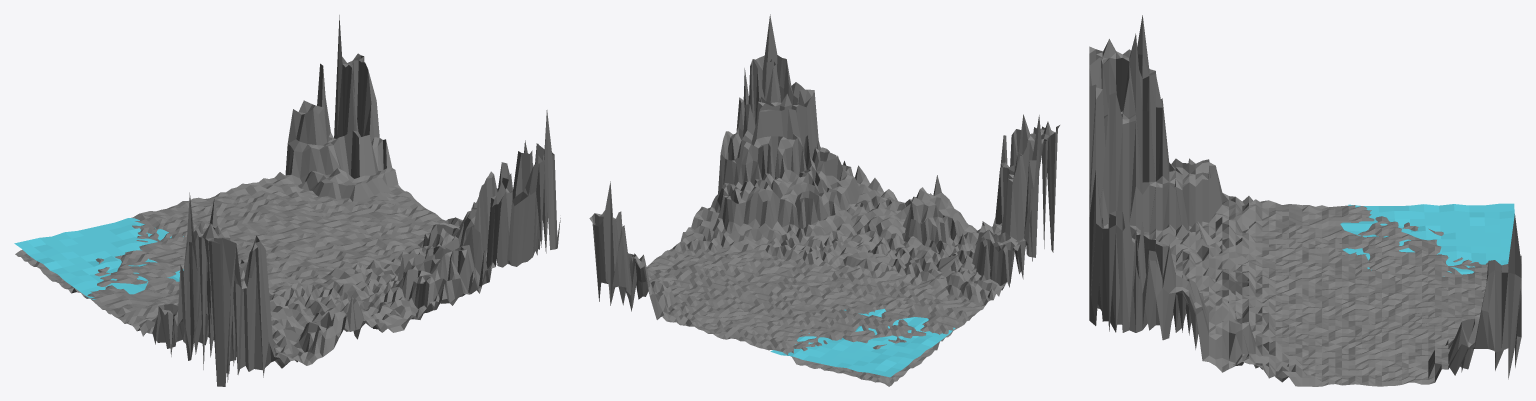
File: Ground.fbx
The picture shows the model from 3 angles, left to right: view 1: azimuth 30°, elevation 25°; view 2: azimuth 150°, elevation 25°; view 3: azimuth 270°, elevation 25°; orthographic projection. The views are drawn at different scales.
Parts seen in each view (by area): view 1: Plane; view 2: Plane; view 3: Plane.
Part boxes in pixels (x1,y1,x2,y2): Plane: (14,15,560,386); Plane: (589,14,1059,386); Plane: (1089,15,1521,386).
Size of the model in its own units: 8026 by 4615 by 8125.
